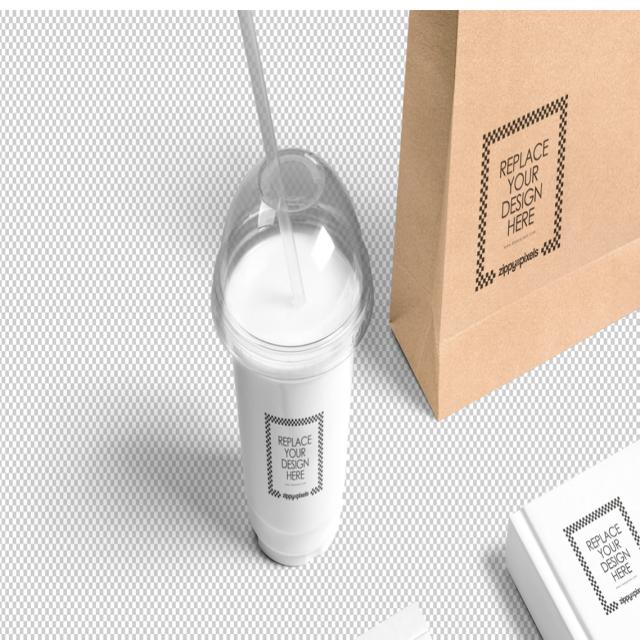recyclable: (196, 90, 395, 590)
